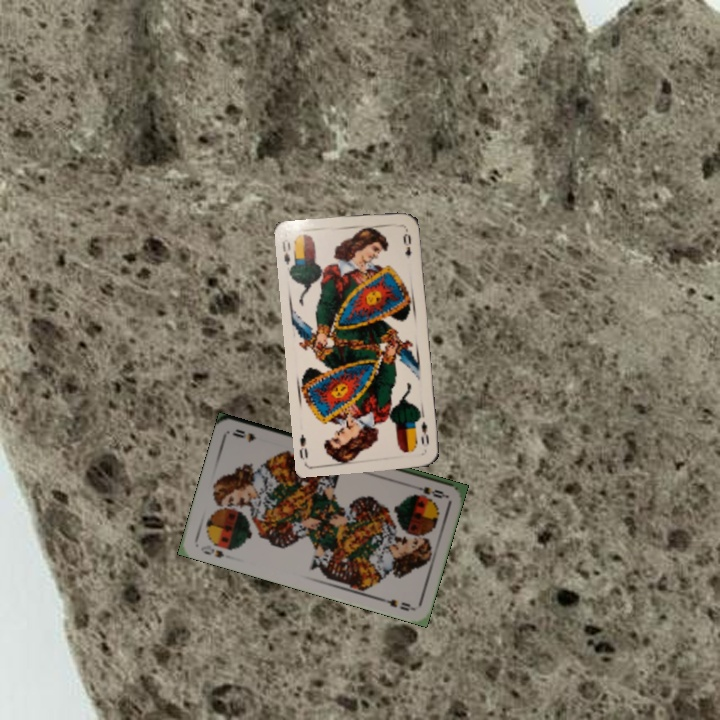EO: (278, 235, 293, 267), (417, 418, 432, 447)
SO: (409, 481, 449, 501), (197, 541, 227, 560)
